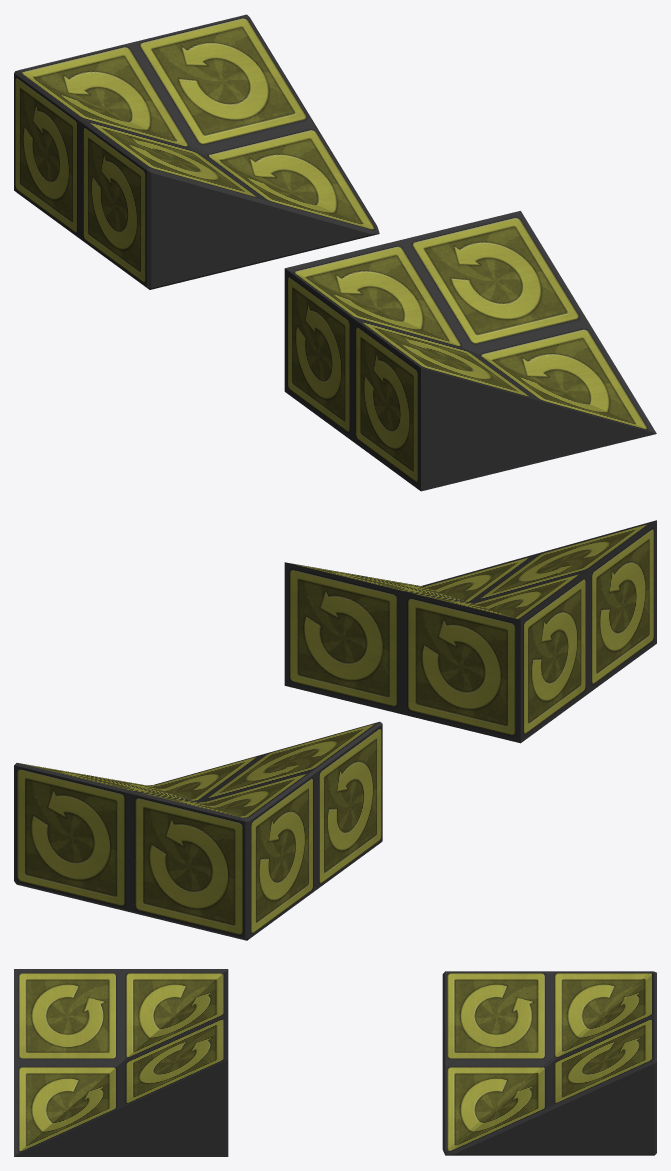
File: slope.insideCorner.2x2.fbx
3 views of the same model, one above another, from view 1: azimuth 30°, elevation 25°; view 2: azimuth 150°, elevation 25°; view 3: azimuth 270°, elevation 25° (orthographic). The views are drawn at different scales.
Visible parts, largest first — view 1: MESH slope.insideCorner.2x2, MESH slope.insideCorner.2x2.c; view 2: MESH slope.insideCorner.2x2, MESH slope.insideCorner.2x2.c; view 3: MESH slope.insideCorner.2x2, MESH slope.insideCorner.2x2.c.
Part boxes in pixels (x1,y1,x2,y2): MESH slope.insideCorner.2x2: (284,211,656,491); MESH slope.insideCorner.2x2.c: (14,14,379,289); MESH slope.insideCorner.2x2: (284,520,656,743); MESH slope.insideCorner.2x2.c: (14,721,382,940); MESH slope.insideCorner.2x2: (14,969,228,1156); MESH slope.insideCorner.2x2.c: (442,971,656,1155).
Size of what is drawn, in the model's own units: 200 by 100 by 600.
